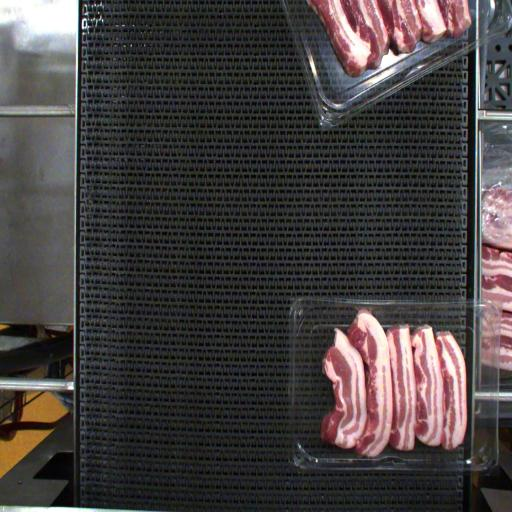packaging-error: (354, 304, 375, 315)
